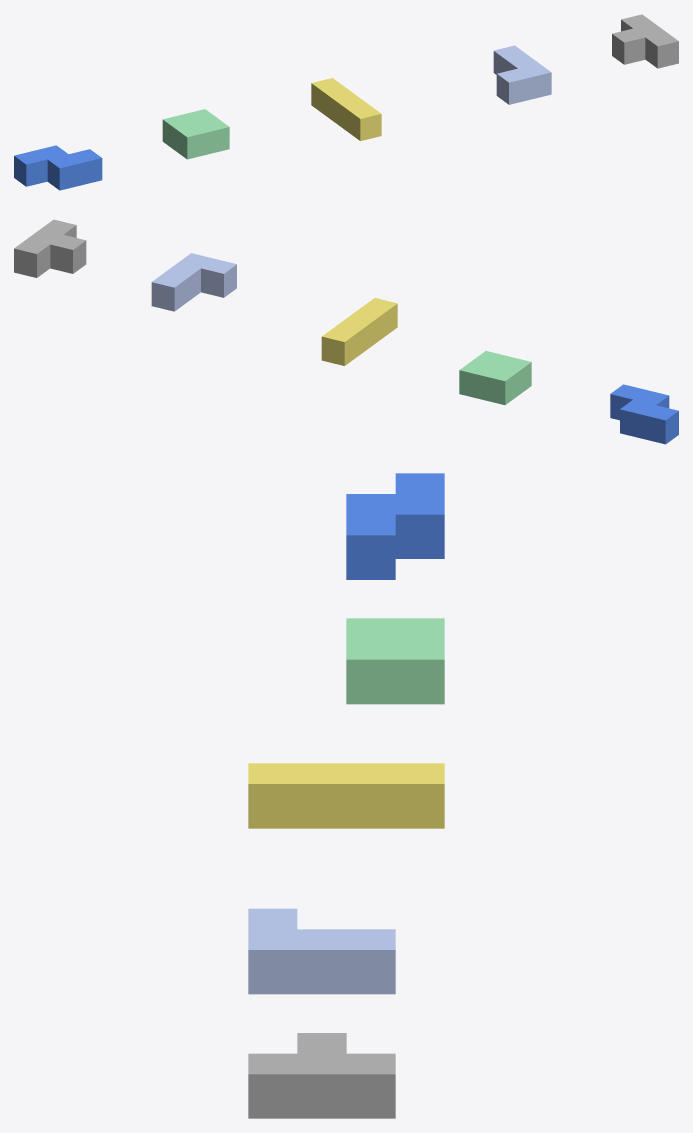
File: character_debris.dae
3 renders of one model, top to bottom at view 1: azimuth 30°, elevation 25°; view 2: azimuth 150°, elevation 25°; view 3: azimuth 270°, elevation 25°, orthographic. The views are drawn at different scales.
Parts seen in each view (by area): view 1: Character_Debris_5, Character_Debris_3, Character_Debris_1, Character_Debris_2, Character_Debris_4; view 2: Character_Debris_2, Character_Debris_3, Character_Debris_1, Character_Debris_5, Character_Debris_4; view 3: Character_Debris_3, Character_Debris_2, Character_Debris_1, Character_Debris_4, Character_Debris_5.
Boxes of the visible parts, x1=… form: Character_Debris_5: x1=14, y1=145, x2=102, y2=190; Character_Debris_3: x1=311, y1=78, x2=381, y2=140; Character_Debris_1: x1=612, y1=14, x2=678, y2=68; Character_Debris_2: x1=493, y1=45, x2=551, y2=104; Character_Debris_4: x1=162, y1=109, x2=229, y2=159; Character_Debris_2: x1=151, y1=253, x2=236, y2=311; Character_Debris_3: x1=321, y1=298, x2=397, y2=365; Character_Debris_1: x1=14, y1=219, x2=86, y2=277; Character_Debris_5: x1=610, y1=384, x2=678, y2=444; Character_Debris_4: x1=459, y1=351, x2=531, y2=404; Character_Debris_3: x1=248, y1=763, x2=444, y2=828; Character_Debris_2: x1=248, y1=908, x2=395, y2=994; Character_Debris_1: x1=248, y1=1033, x2=395, y2=1118; Character_Debris_4: x1=346, y1=618, x2=444, y2=704; Character_Debris_5: x1=346, y1=473, x2=444, y2=579.
Bounding box in the file's own units: 29 × 1 × 4.
